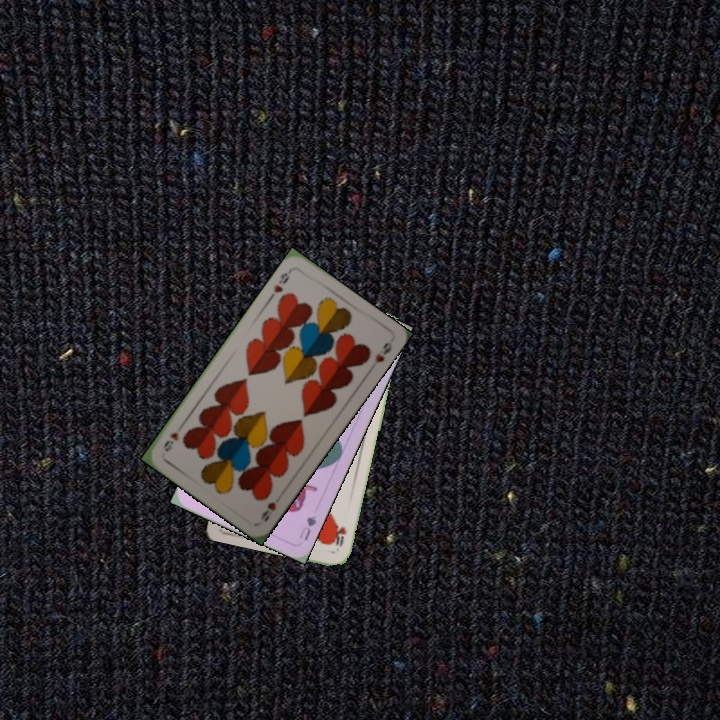GU: (295, 512, 319, 543)
H9: (269, 265, 295, 296), (256, 498, 279, 524)
HO: (330, 522, 350, 549)
